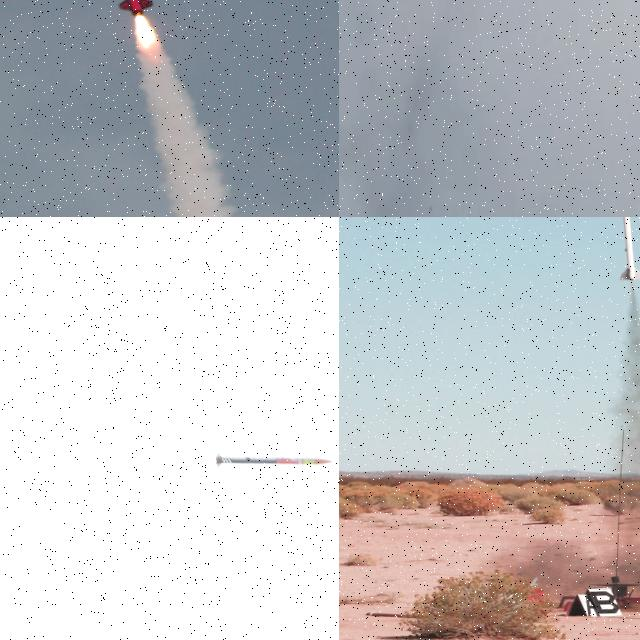Rocket: (216, 452, 332, 467), (618, 217, 640, 282), (107, 0, 155, 16)
